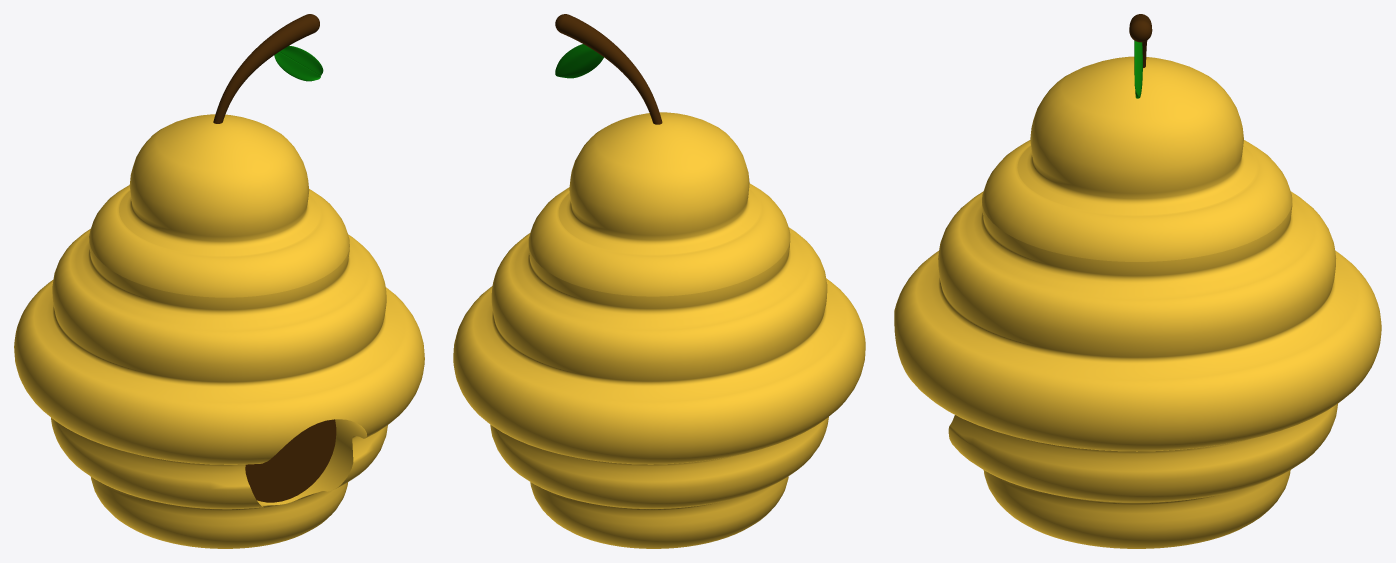
Rendered from Modelo Panal_Albert Jimenez.fbx.
The picture shows the model from 3 angles, left to right: view 1: azimuth 30°, elevation 25°; view 2: azimuth 150°, elevation 25°; view 3: azimuth 270°, elevation 25°; orthographic projection. The views are drawn at different scales.
Parts seen in each view (by area): view 1: Objeto_2, Objeto_1, Objeto_3, Objeto_4; view 2: Objeto_2, Objeto_3, Objeto_4; view 3: Objeto_2, Objeto_3.
Part boxes in pixels (x1=…): Objeto_2: x1=14, y1=114, x2=424, y2=548; Objeto_1: x1=245, y1=419, x2=336, y2=502; Objeto_3: x1=213, y1=14, x2=319, y2=123; Objeto_4: x1=274, y1=45, x2=323, y2=81; Objeto_2: x1=453, y1=112, x2=865, y2=548; Objeto_3: x1=555, y1=14, x2=662, y2=124; Objeto_4: x1=555, y1=44, x2=603, y2=78; Objeto_2: x1=894, y1=56, x2=1381, y2=548; Objeto_3: x1=1129, y1=14, x2=1152, y2=67.
Size of the model in its own units: 64.56 by 68.2 by 82.21.
